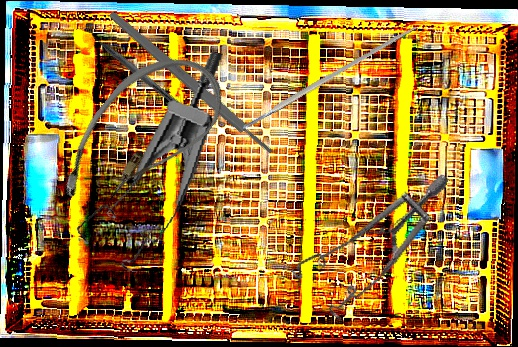Cannula: (44, 32, 239, 239)
Chopper: (82, 22, 199, 118)
Scalpel Handle: (107, 8, 275, 158), (240, 23, 419, 131)
Speculum: (69, 33, 227, 282), (280, 136, 450, 340)
